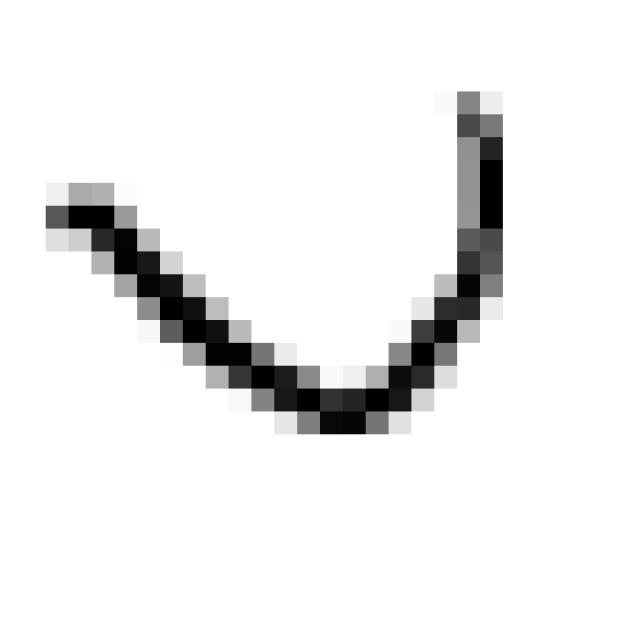7 -seven-: (23, 82, 519, 464)
